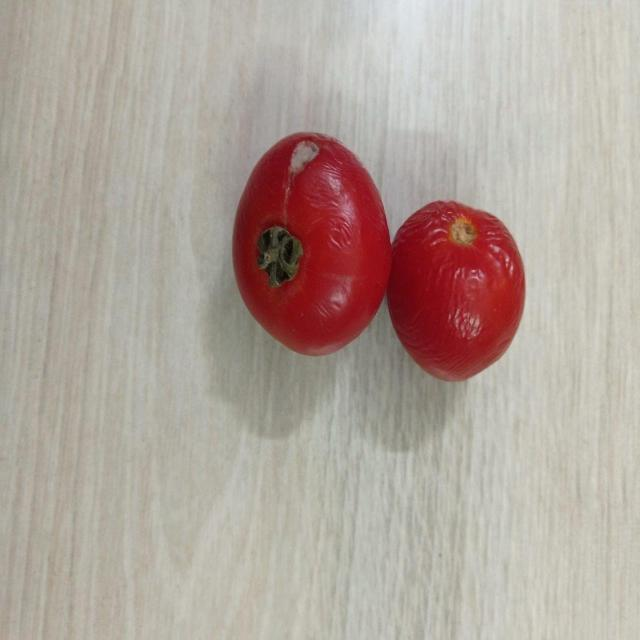Rotten: (232, 129, 391, 355)
overripe: (390, 198, 527, 378)
